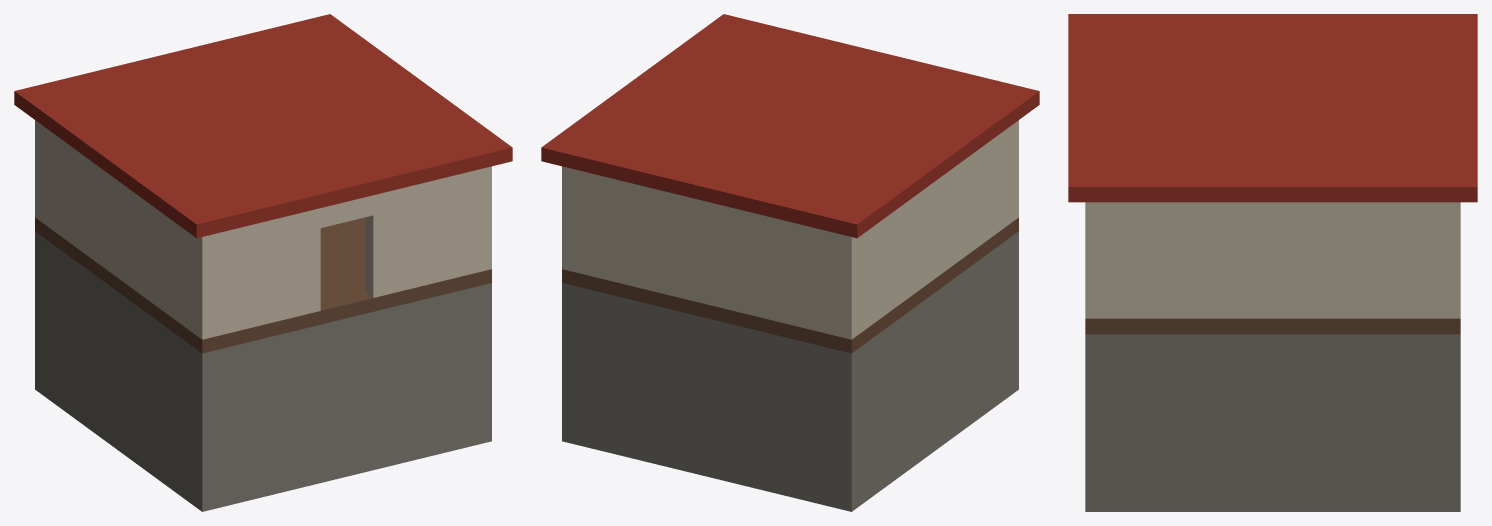
The model's file is house.obj.
The picture shows the model from 3 angles, left to right: view 1: azimuth 30°, elevation 25°; view 2: azimuth 150°, elevation 25°; view 3: azimuth 270°, elevation 25°; orthographic projection. The views are drawn at different scales.
Bounding box in the file's own units: 9.6 × 8.6 × 9.6.
